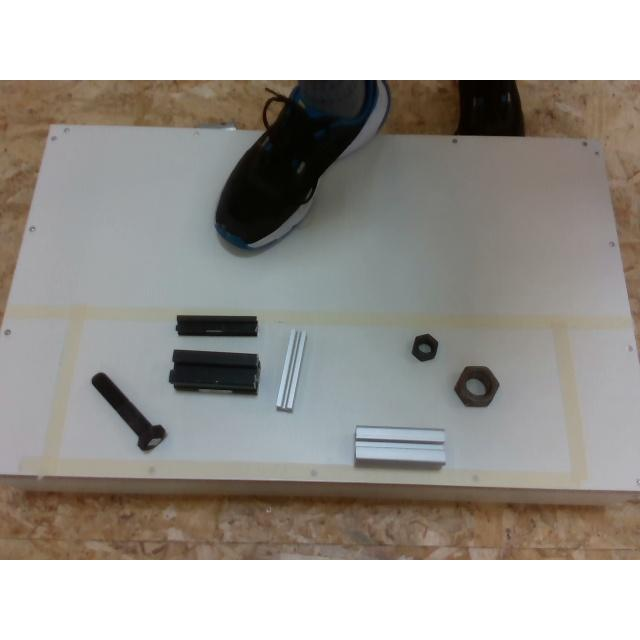F20_20_B: (176, 316, 256, 336)
F20_20_G: (275, 329, 305, 411)
M20: (410, 333, 438, 361)
M20_100: (90, 372, 166, 452)
M30: (454, 366, 498, 406)
S40_40_B: (169, 351, 259, 394)
S40_40_G: (355, 426, 445, 468)
